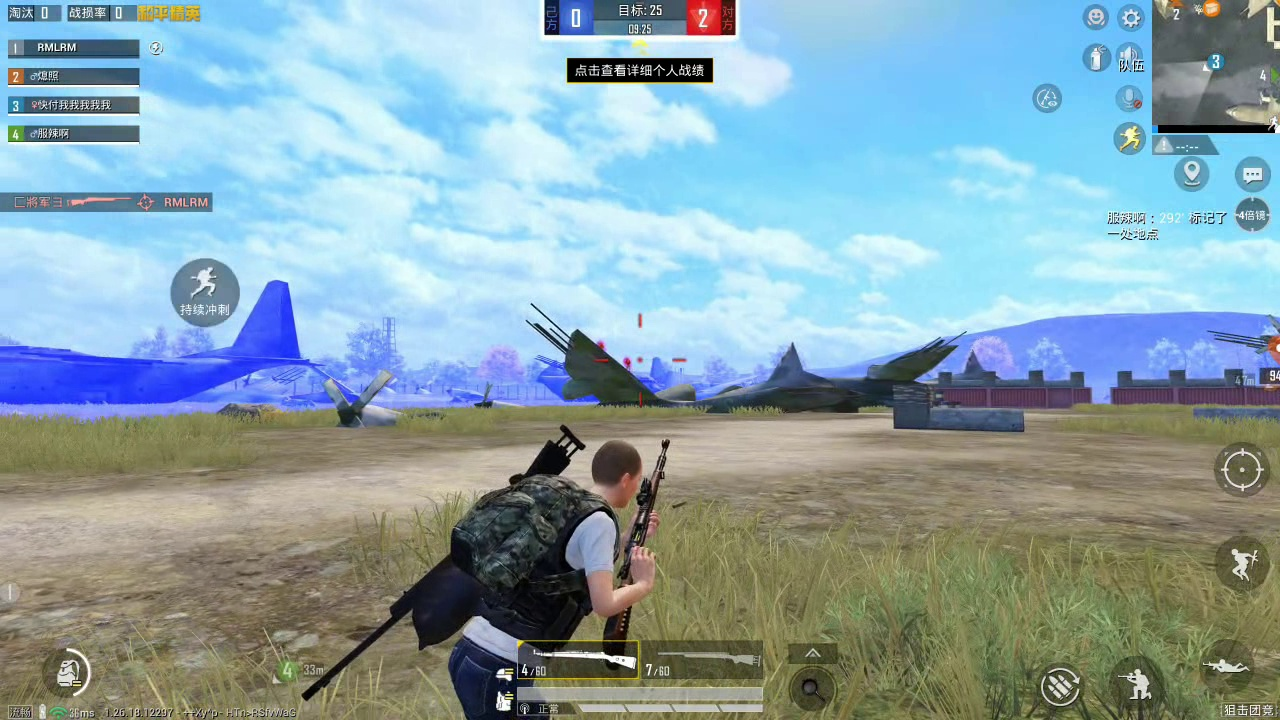enemy: (622, 356, 634, 373), (596, 339, 605, 350)
